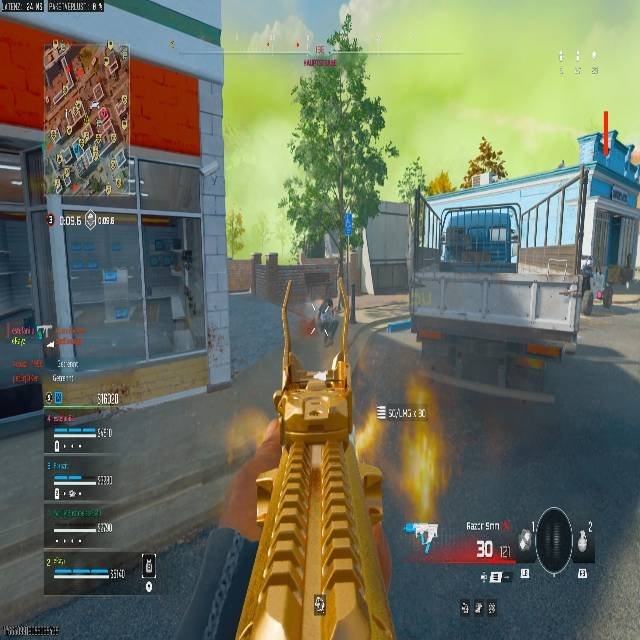head: (475, 138, 497, 158)
player: (462, 139, 509, 189)
